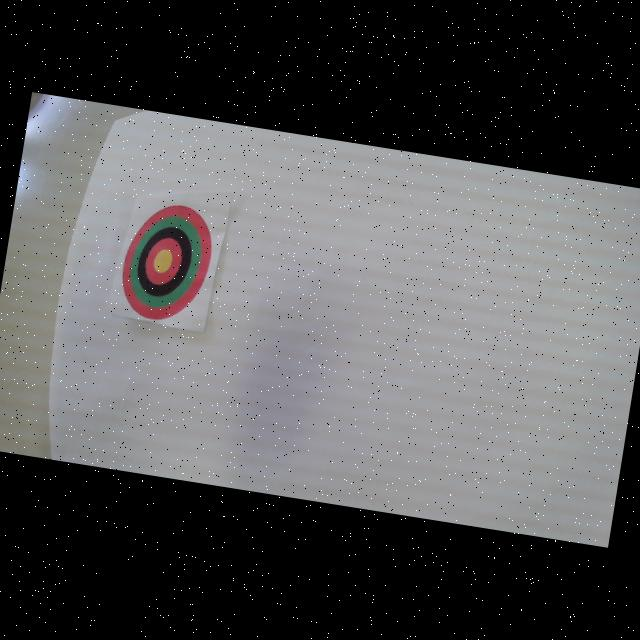COGNITIVE: (114, 197, 220, 328)
